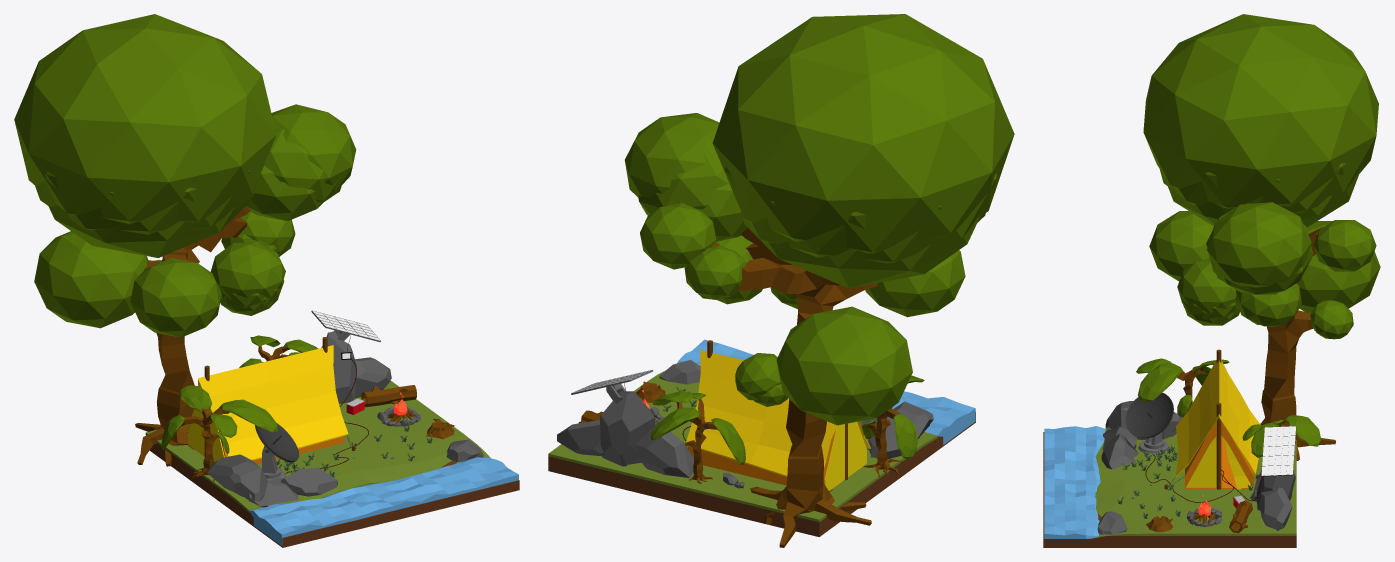
The model's file is camp_export5.glb.
The picture shows the model from 3 angles, left to right: view 1: azimuth 30°, elevation 25°; view 2: azimuth 150°, elevation 25°; view 3: azimuth 270°, elevation 25°; orthographic projection. The views are drawn at different scales.
Visible parts, largest first — view 1: Big tree leaves, Rock2.007, Tent-main.001, Rock2.003, Big Tree, Rock_1.004, Rock2.005, Small Tree Leaves 1, Rock2.001, Rock2.008, Satellite Dish, Small Tree 1 (+5 smaller); view 2: Big tree leaves, Big Tree, Tent-main.001, Rock2.007, Rock2.001, Rock2.005, Rock2.003, Rock2.008, Small Tree Leaves 2, Tent-main.002, Rock_1.004, Tent-main (+4 smaller); view 3: Big tree leaves, Rock2.007, Rock2.003, Tent-main.001, Big Tree, Rock2.005, Rock_1.004, Rock2.001, Small Tree Leaves 1, Satellite Dish, Tent-main, Cube.004 (+7 smaller).
Part boxes in pixels (x1,y1,x2,y2): Big tree leaves: (14, 14, 356, 337); Rock2.007: (145, 380, 490, 511); Tent-main.001: (185, 345, 348, 460); Rock2.003: (249, 456, 518, 545); Big Tree: (135, 206, 251, 466); Rock_1.004: (207, 454, 337, 507); Rock2.005: (149, 445, 519, 547); Small Tree Leaves 1: (161, 385, 277, 453); Rock2.001: (321, 331, 391, 403); Rock2.008: (146, 435, 519, 539); Satellite Dish: (255, 423, 299, 462); Small Tree 1: (181, 408, 229, 483); Big tree leaves: (624, 14, 1014, 425); Big Tree: (710, 227, 877, 547); Tent-main.001: (686, 350, 870, 476); Rock2.007: (548, 371, 937, 522); Rock2.001: (557, 391, 744, 488); Rock2.005: (548, 412, 975, 536); Rock2.003: (677, 339, 975, 444); Rock2.008: (548, 370, 941, 527); Small Tree Leaves 2: (651, 391, 745, 464); Tent-main.002: (824, 422, 866, 490); Rock_1.004: (863, 401, 933, 458); Tent-main: (688, 430, 835, 485); Big tree leaves: (1143, 14, 1380, 339); Rock2.007: (1095, 429, 1296, 537); Rock2.003: (1044, 426, 1105, 538); Tent-main.001: (1175, 360, 1260, 477); Big Tree: (1260, 227, 1335, 460); Rock2.005: (1043, 539, 1296, 547); Rock_1.004: (1101, 401, 1182, 469); Rock2.001: (1250, 470, 1295, 530); Small Tree Leaves 1: (1136, 358, 1229, 416); Satellite Dish: (1125, 392, 1173, 438); Tent-main: (1185, 421, 1253, 488); Cube.004: (1261, 426, 1295, 475).
Bounding box in the file's own units: 12.55 × 14.44 × 10.65.
